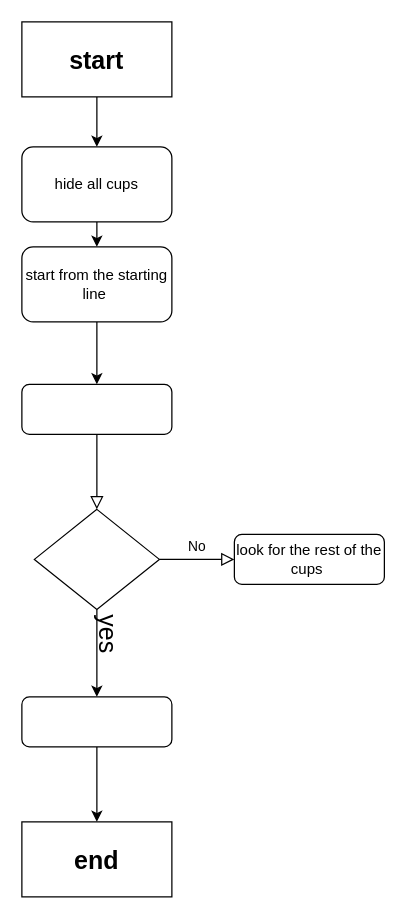
The diagram is 406 pixels wide and 919 high, and some of its shapes have lost their labels. The box of each missing label's shape, as (x1, y1, x2, y2) in pixels:
cross finish line: (21, 696, 172, 747)
do you have all the cups: (33, 508, 159, 609)
looks for all cups: (21, 383, 172, 434)
